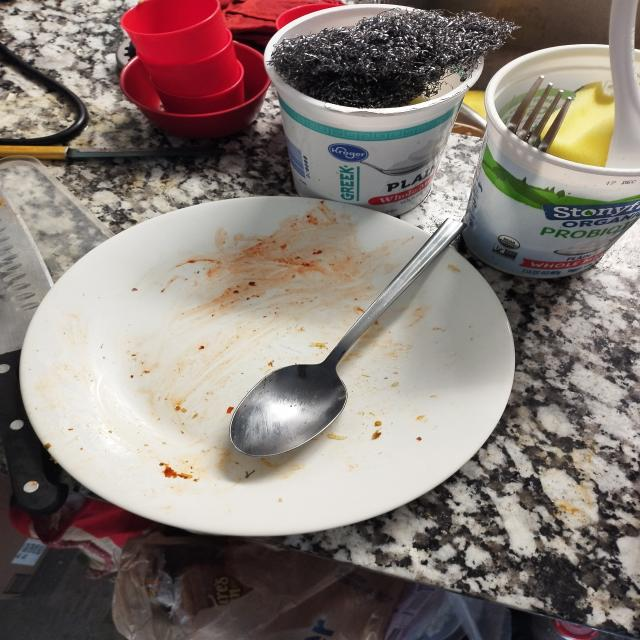Spoon: (221, 214, 482, 466)
